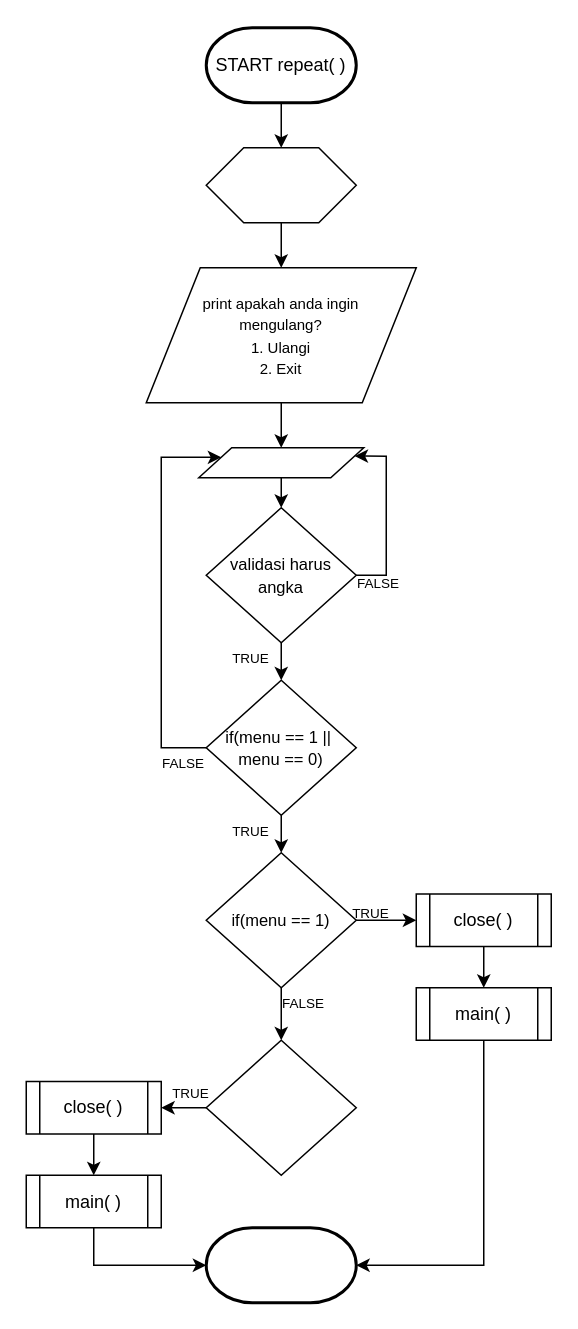
Image size: 578x1329. Some labels were removed from this diagram. Each missing label, with the centre of its shape:
"END" belongs at pixel 280 1265.
"if(menu == 0)" belongs at pixel 280 1107.
"input menu" belongs at pixel 280 462.
"int menu" belongs at pixel 280 184.
